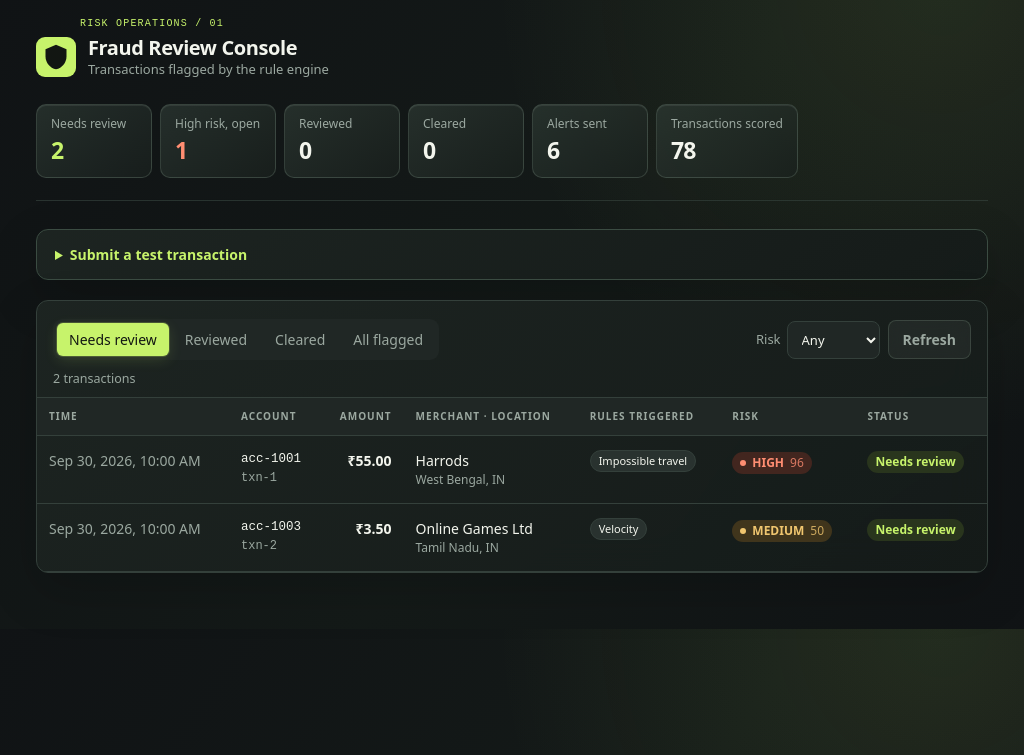
App › opens a transaction, clears it, and it leaves the "Needs review" queue
The image size is (1024, 755).
Step 1. Click the row named "Transaction txn-1" → point(512, 469), box [37, 435, 987, 503]
(page scrolled)
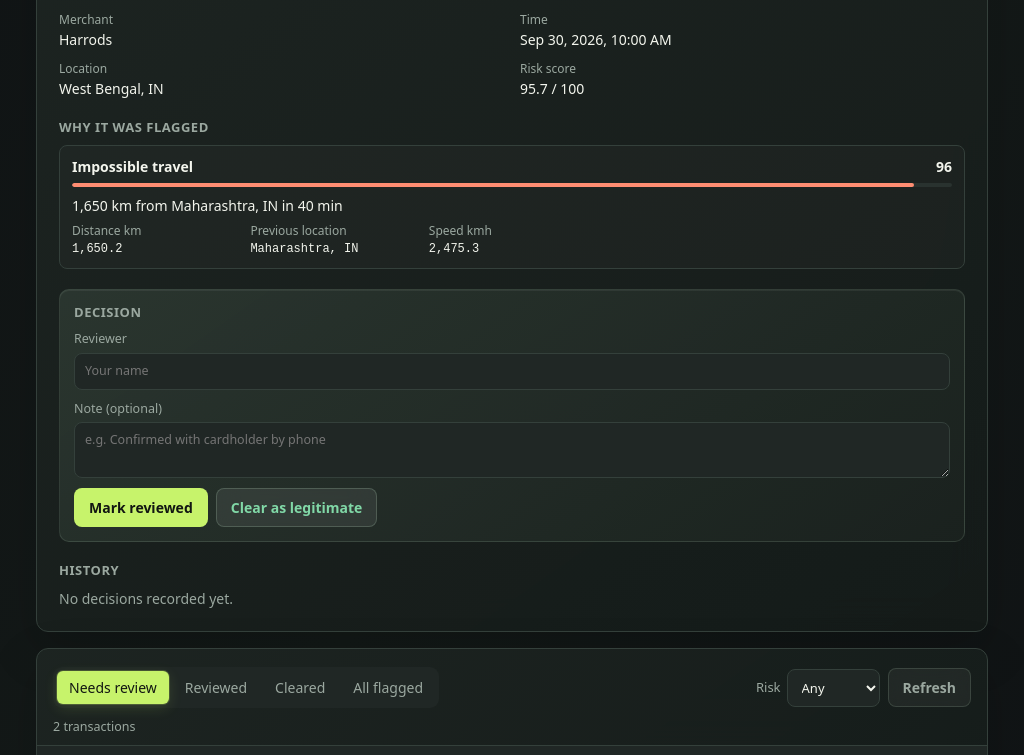
Check: the text "1,650 km from Maharashtra, IN in 40 min" is shown, box [72, 196, 343, 215]
Step 2. Type "Ana" into the field labelled "Reviewer" → point(512, 371), box [74, 353, 950, 390]
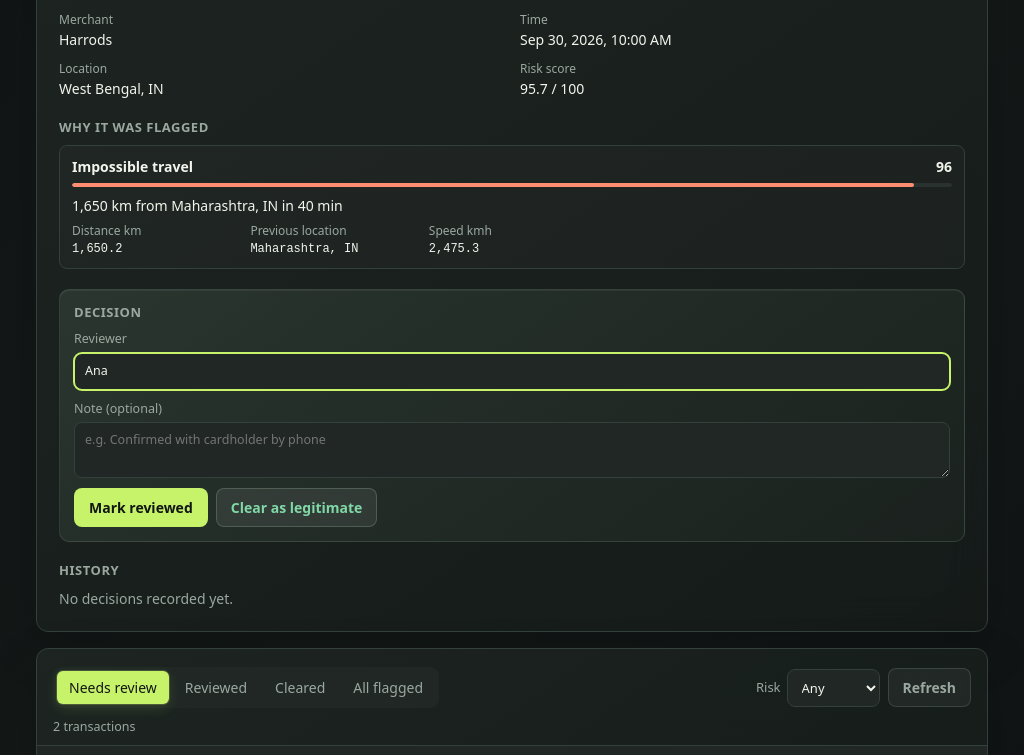
Step 3. Type "Cardholder is travelling" into the text box labelled "Note (optional)" → point(512, 450), box [74, 422, 950, 478]
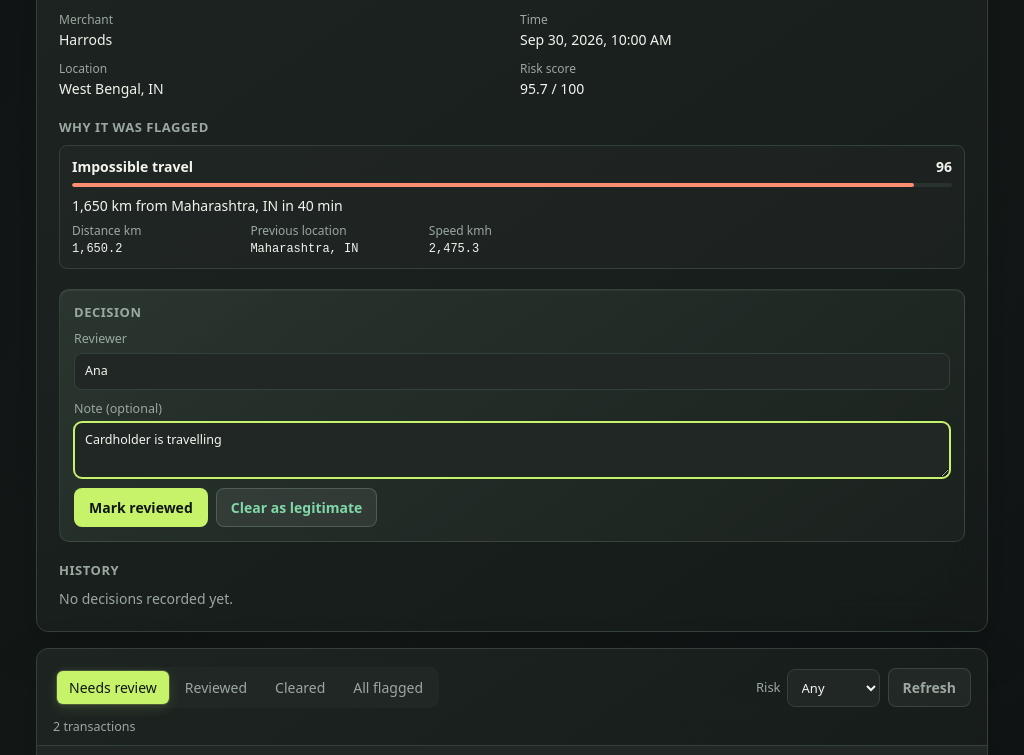
Step 4. Click the button "Clear as legitimate" → point(297, 507), box [216, 488, 377, 527]
(page scrolled)
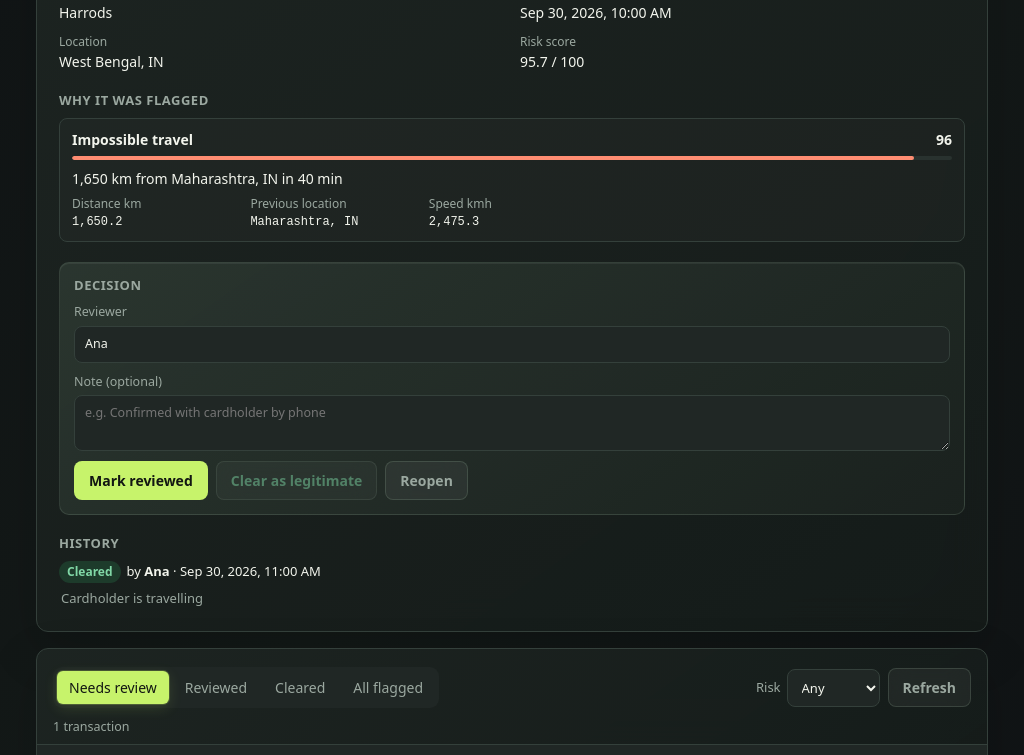
Check: the text "Cardholder is travelling" is shown, box [61, 589, 203, 607]
The cleared transaction appears under the Cleared tab.
Step 5. Click the tab "Cleared" → point(300, 687), box [263, 671, 337, 704]
(page scrolled)
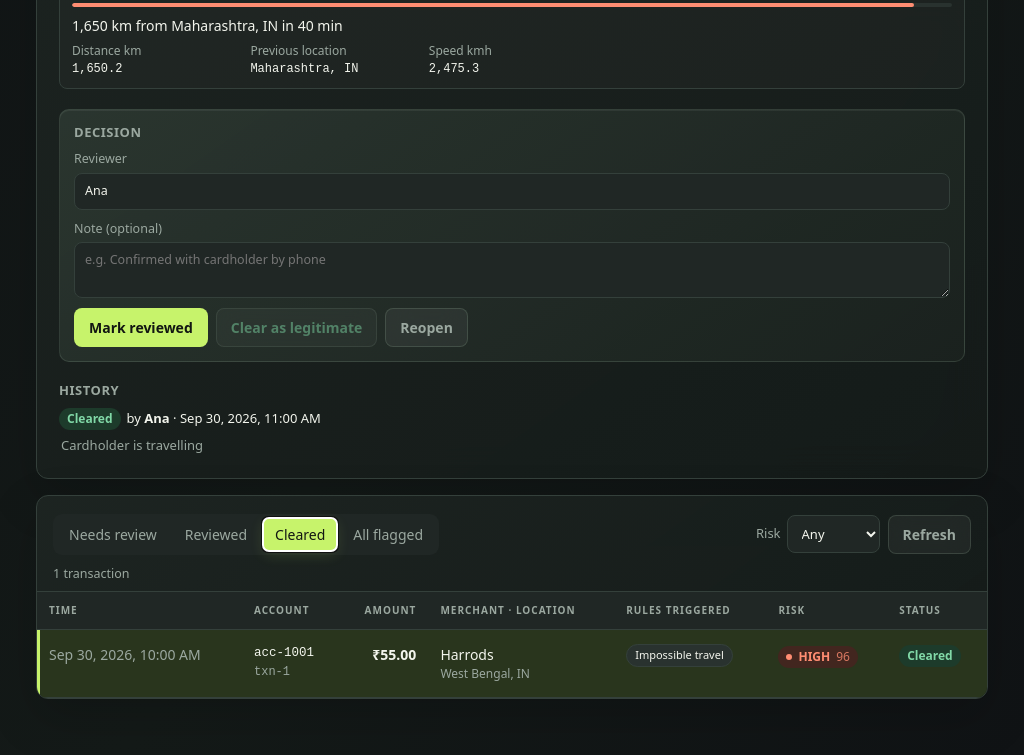
Check: the row named "Transaction txn-1" is shown, box [37, 630, 987, 698]
